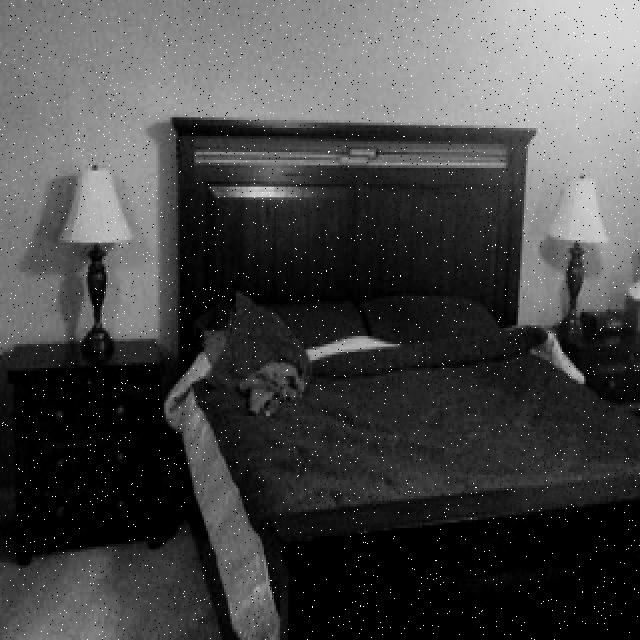bed: (165, 114, 640, 614)
